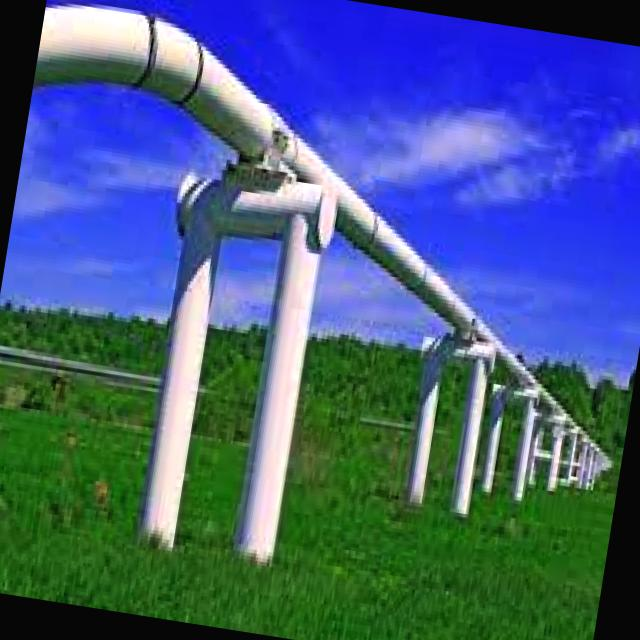gas: (33, 6, 536, 383), (34, 10, 150, 84)
